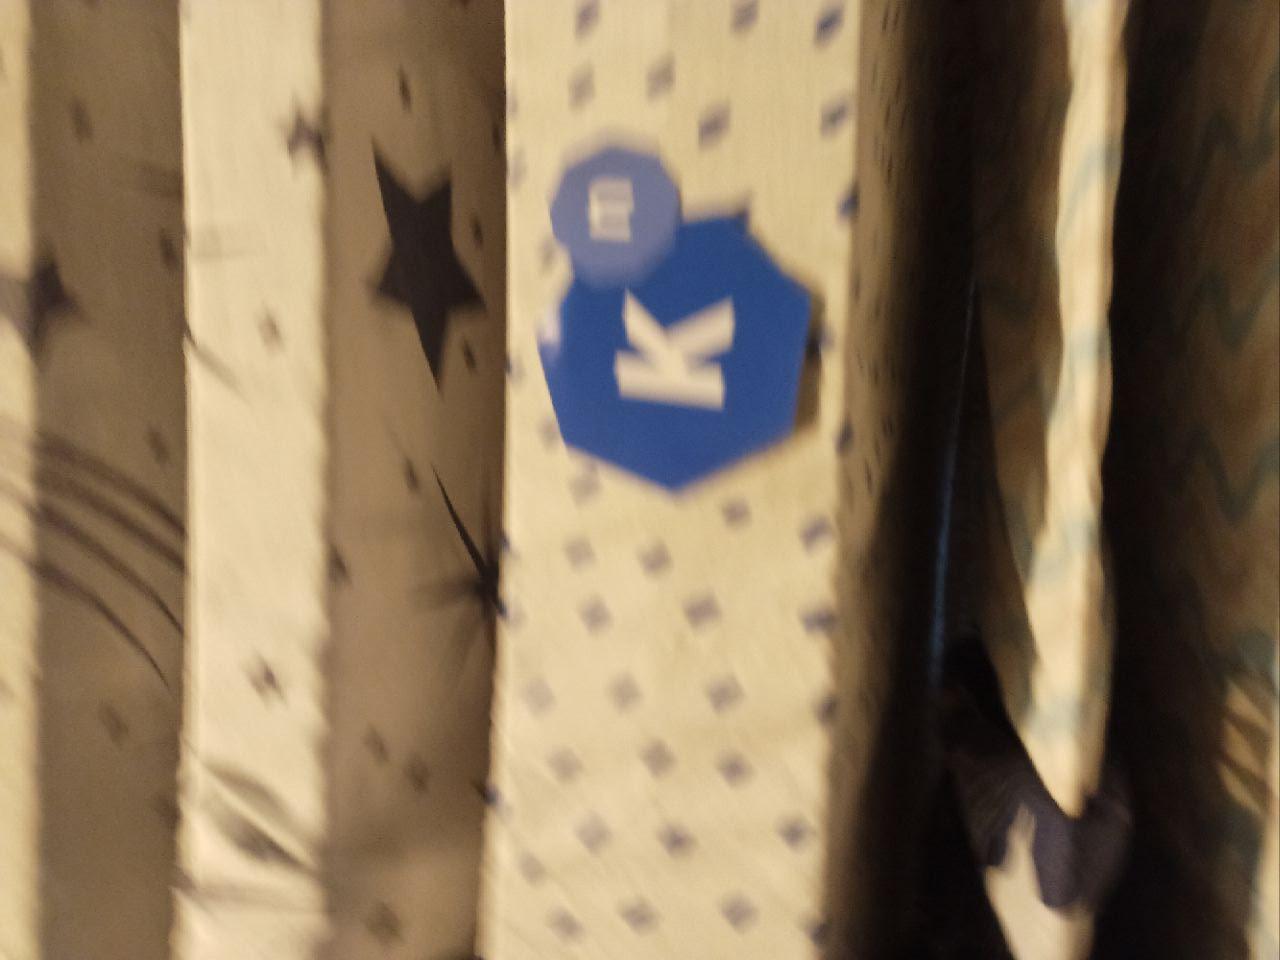knative: (531, 145, 820, 494)
